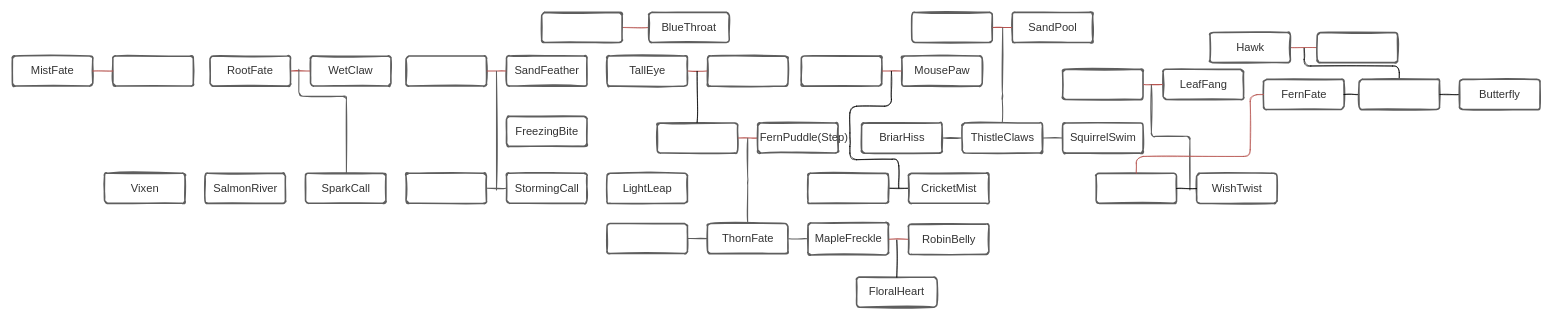
The diagram is 1552 pixels wide and 320 high, and some of its shapes have lost their labels. The shapes that lost their labels are listed below. From the top down, each one's centre as x and y in pixels, then its label:
At pixel 582 27: "AmberSong".
At pixel 952 27: "BriarFoot".
At pixel 1357 47: "Seashell".
At pixel 153 71: "IcyFur".
At pixel 446 71: "RedSpot".
At pixel 747 71: "TawnyFoot".
At pixel 841 71: "PineBlaze".
At pixel 1102 84: "FlameFace".
At pixel 1399 94: "Lakes".
At pixel 697 138: "RippedScar".
At pixel 446 188: "ScorchNight".
At pixel 848 188: "LakeRose".
At pixel 1136 188: "TigerLeap".
At pixel 647 238: "BloomStep".
